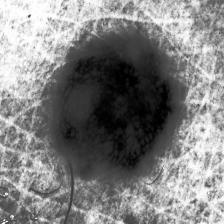Benign Marking or Mole: (58, 40, 173, 173)
